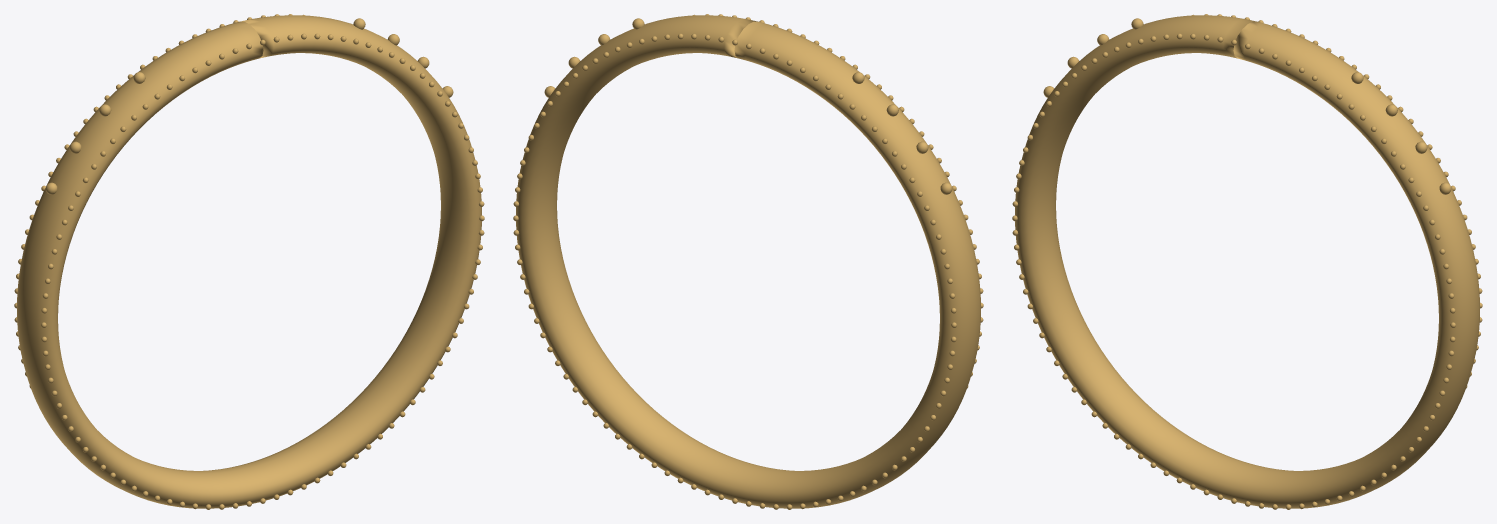
File: bands-vintage.glb
3 views of the same model, side by side, from view 1: azimuth 30°, elevation 25°; view 2: azimuth 150°, elevation 25°; view 3: azimuth 330°, elevation 25° (orthographic).
Parts seen in each view (by area): view 1: Band; view 2: Band; view 3: Band.
Boxes of the visible parts, x1,y1,x2,y2 form: Band: (17, 15, 481, 508); Band: (516, 15, 980, 508); Band: (1015, 15, 1479, 508).
Bounding box in the file's own units: 19.6 × 19.6 × 2.22.
